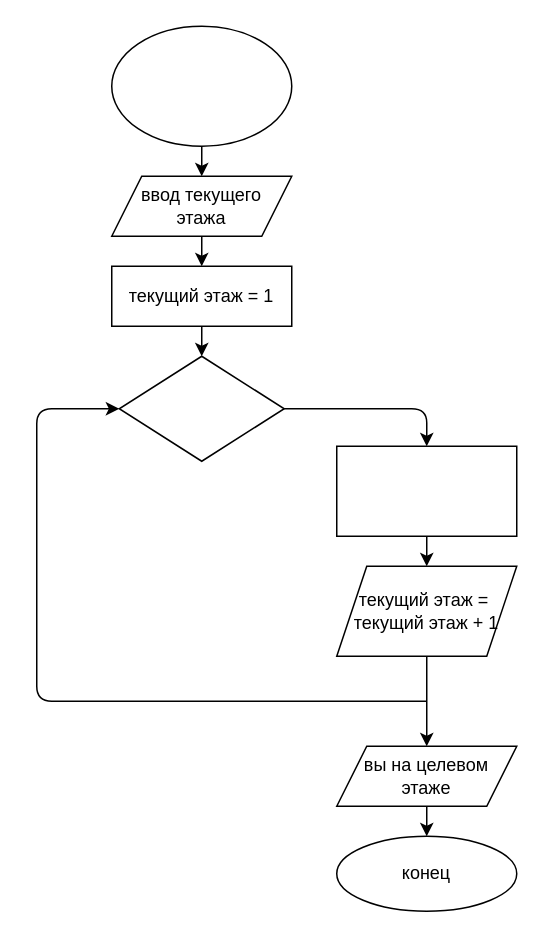
Image size: 543x938. Some labels were removed from this diagram. The centre of each missing label's shape, as x and y in pixels:
"начало" goes at point 201,85.
"поднять выше на этаж" goes at point 426,490.
"текущий этаж < N?" goes at point 201,408.
